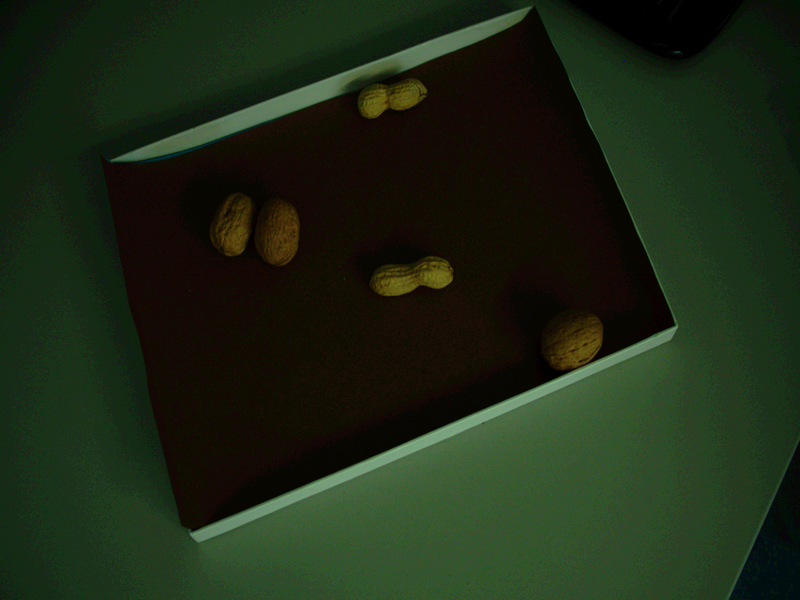walnut: (536, 299, 612, 375), (202, 187, 257, 261), (255, 195, 304, 269)
